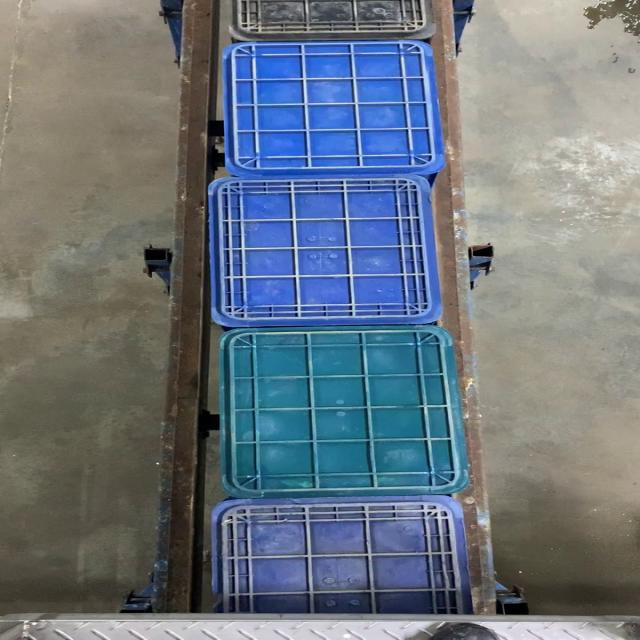Box: (215, 327, 464, 498), (210, 176, 445, 327), (221, 41, 440, 175)
